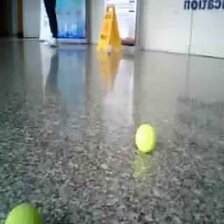tennis: (5, 203, 44, 224), (135, 124, 156, 153)
